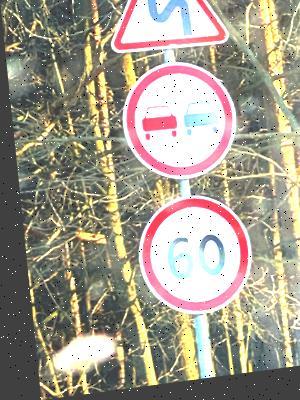Speed Limit -60-: (125, 192, 251, 327)
